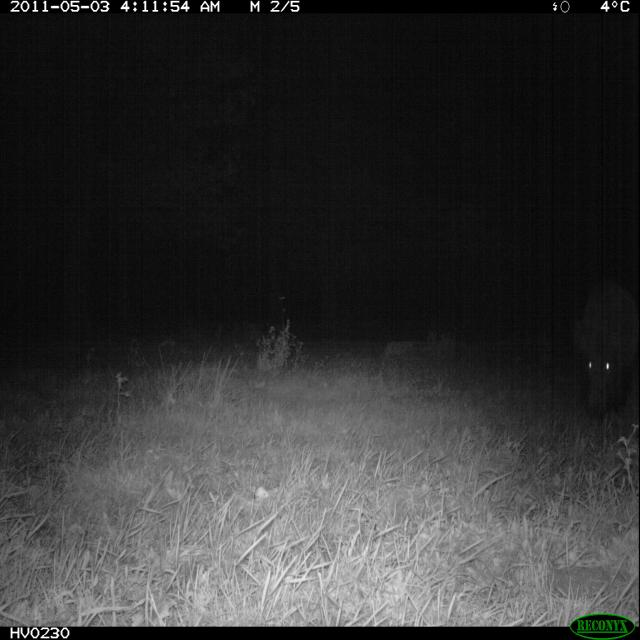boar: (543, 253, 640, 447)
